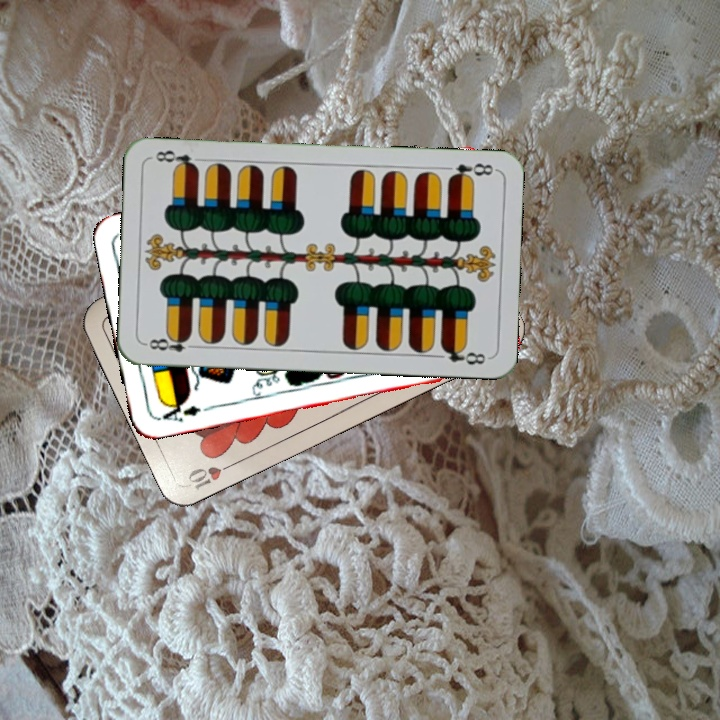E8: (142, 331, 201, 355), (444, 159, 497, 183)
EA: (154, 396, 203, 425)
H10: (184, 457, 241, 493)
